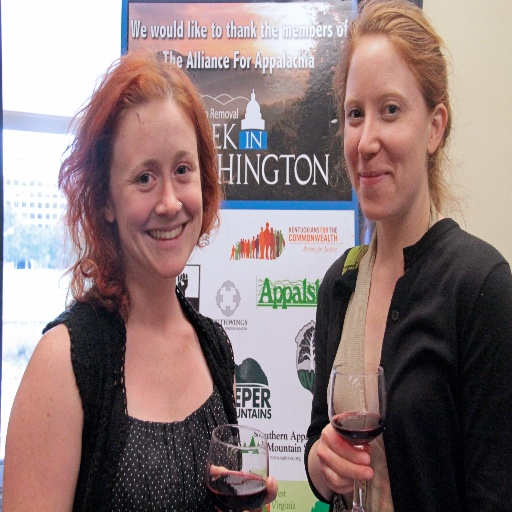hand: (311, 424, 367, 499), (208, 464, 278, 511)
